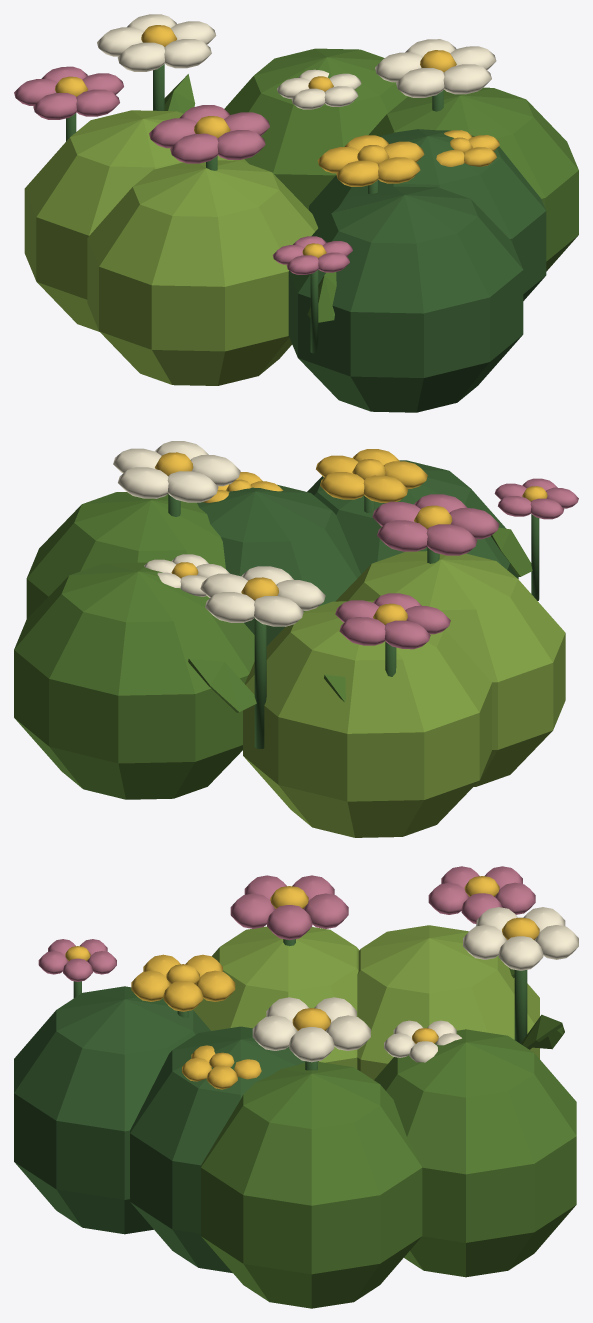
File: 28_bushes_and_flowers.glb
The picture shows the model from 3 angles, top to bottom: view 1: azimuth 30°, elevation 25°; view 2: azimuth 150°, elevation 25°; view 3: azimuth 270°, elevation 25°; orthographic projection. The views are drawn at different scales.
Parts seen in each view (by area): view 1: Bush.002, Bush.004, Bush.001, Bush.003, Bush, Bush.005, Petal.064, Petal.063, Petal.083, Petal.084, Petal.093, Petal.094 (+29 smaller); view 2: Bush.003, Bush.001, Bush.004, Bush, Bush.005, Bush.002, Leaf.288, Flower stem.018, Petal.061, Petal.062, Petal.081, Petal.082 (+27 smaller); view 3: Bush, Bush.003, Bush.002, Bush.005, Bush.001, Bush.004, Petal.060, Petal.080, Petal.090, Petal.064, Petal.061, Petal.084 (+23 smaller).
Boxes of the visible parts, bbox=[...] form: Bush.002: bbox=[288, 186, 523, 412]; Bush.004: bbox=[87, 160, 317, 385]; Bush.001: bbox=[24, 110, 248, 331]; Bush.003: bbox=[224, 48, 408, 209]; Bush: bbox=[368, 87, 578, 271]; Bush.005: bbox=[309, 129, 546, 300]; Petal.064: bbox=[443, 64, 491, 94]; Petal.063: bbox=[396, 68, 444, 97]; Petal.083: bbox=[170, 133, 218, 163]; Petal.084: bbox=[217, 130, 265, 159]; Petal.093: bbox=[117, 42, 164, 71]; Petal.094: bbox=[164, 39, 211, 68]; Bush.003: bbox=[14, 562, 254, 799]; Bush.001: bbox=[243, 600, 491, 837]; Bush.004: bbox=[335, 551, 565, 786]; Bush: bbox=[26, 492, 225, 618]; Bush.005: bbox=[197, 484, 360, 645]; Bush.002: bbox=[307, 460, 518, 578]; Leaf.288: bbox=[188, 658, 256, 712]; Flower stem.018: bbox=[254, 618, 266, 748]; Petal.061: bbox=[118, 467, 168, 498]; Petal.062: bbox=[167, 471, 218, 502]; Petal.081: bbox=[377, 520, 427, 551]; Petal.082: bbox=[426, 524, 477, 555]; Bush: bbox=[201, 1061, 422, 1308]; Bush.003: bbox=[374, 1029, 576, 1277]; Bush.002: bbox=[14, 986, 210, 1234]; Bush.005: bbox=[130, 1026, 318, 1273]; Bush.001: bbox=[357, 925, 539, 1079]; Bush.004: bbox=[193, 926, 359, 1068]; Petal.060: bbox=[289, 1027, 334, 1062]; Petal.080: bbox=[267, 905, 312, 940]; Petal.090: bbox=[498, 936, 543, 970]; Petal.064: bbox=[252, 1015, 297, 1050]; Petal.061: bbox=[325, 1015, 370, 1050]; Petal.084: bbox=[230, 893, 275, 928].
Bounding box in the file's own units: 1.15 × 0.5919 × 1.11.
